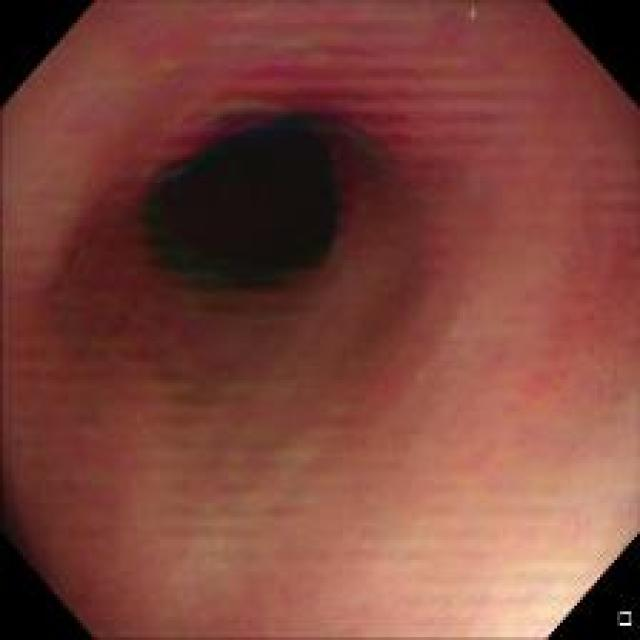color misalignment: (145, 19, 474, 189)
contrast: (124, 85, 362, 312)
